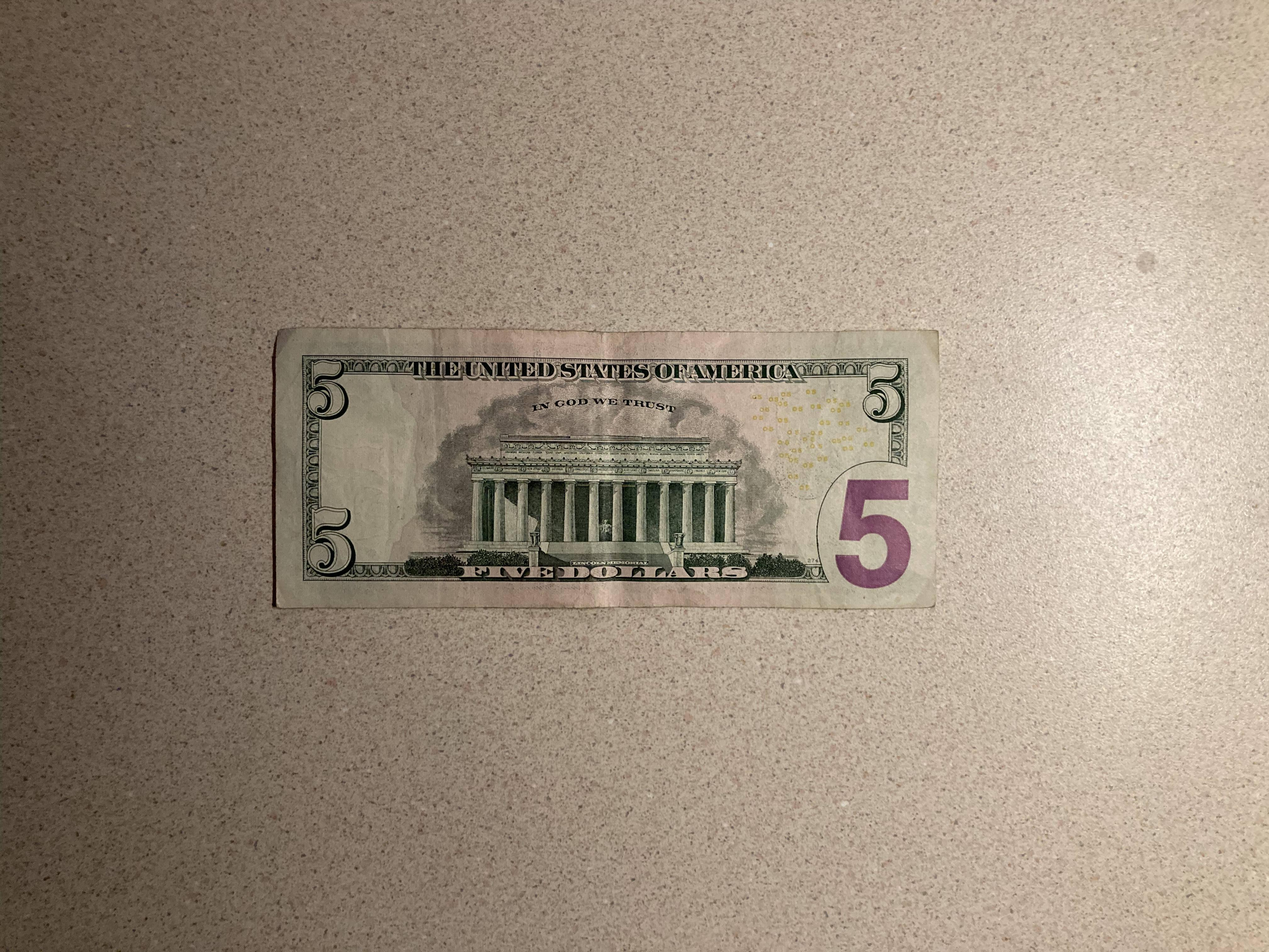five-back: (272, 328, 942, 610)
